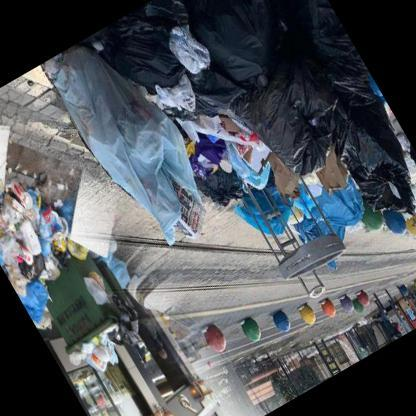Garbage: (245, 16, 415, 227), (44, 12, 207, 188), (213, 36, 349, 192), (189, 0, 362, 118), (305, 48, 415, 211), (106, 107, 218, 246), (164, 88, 271, 212), (278, 114, 369, 233), (0, 156, 72, 299), (5, 170, 80, 259), (0, 234, 53, 329), (0, 126, 29, 222)
